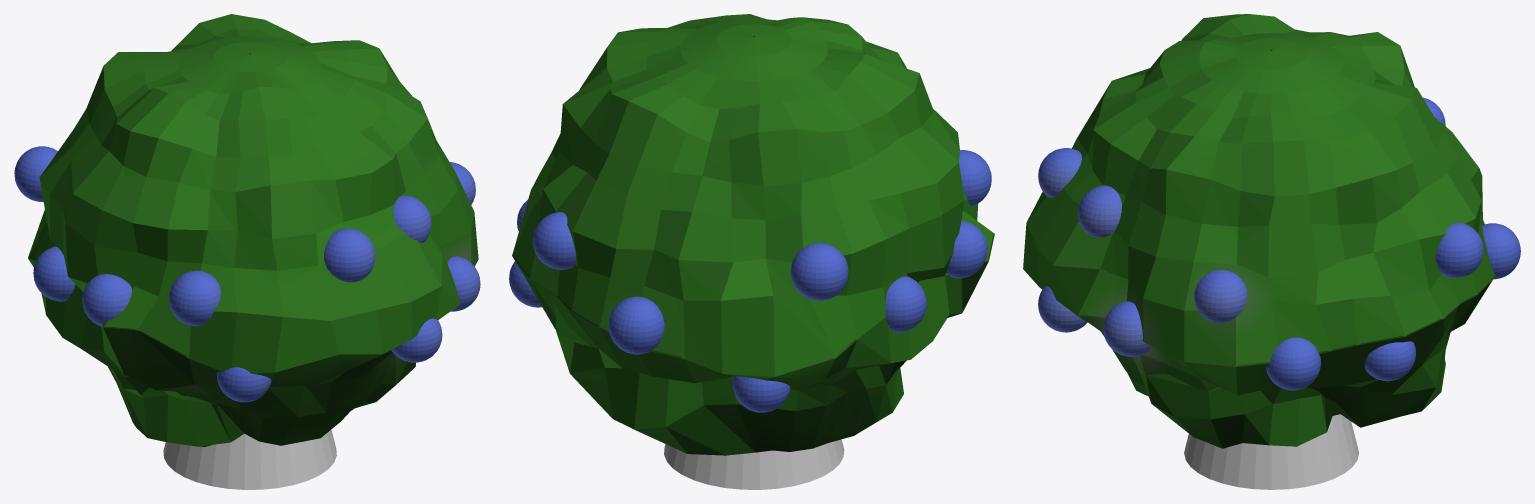
The model's file is bush.gltf.
3 views of the same model, side by side, from view 1: azimuth 30°, elevation 25°; view 2: azimuth 150°, elevation 25°; view 3: azimuth 270°, elevation 25° (orthographic). The views are drawn at different scales.
Visible parts, largest first — view 1: Cone; view 2: Cone; view 3: Cone.
Boxes of the visible parts, box(x1,y1,x2,y2) form: Cone: box(14, 14, 480, 489); Cone: box(509, 14, 994, 489); Cone: box(1023, 14, 1520, 489).
Size of the model in its own units: 2.52 by 2.37 by 2.65.
